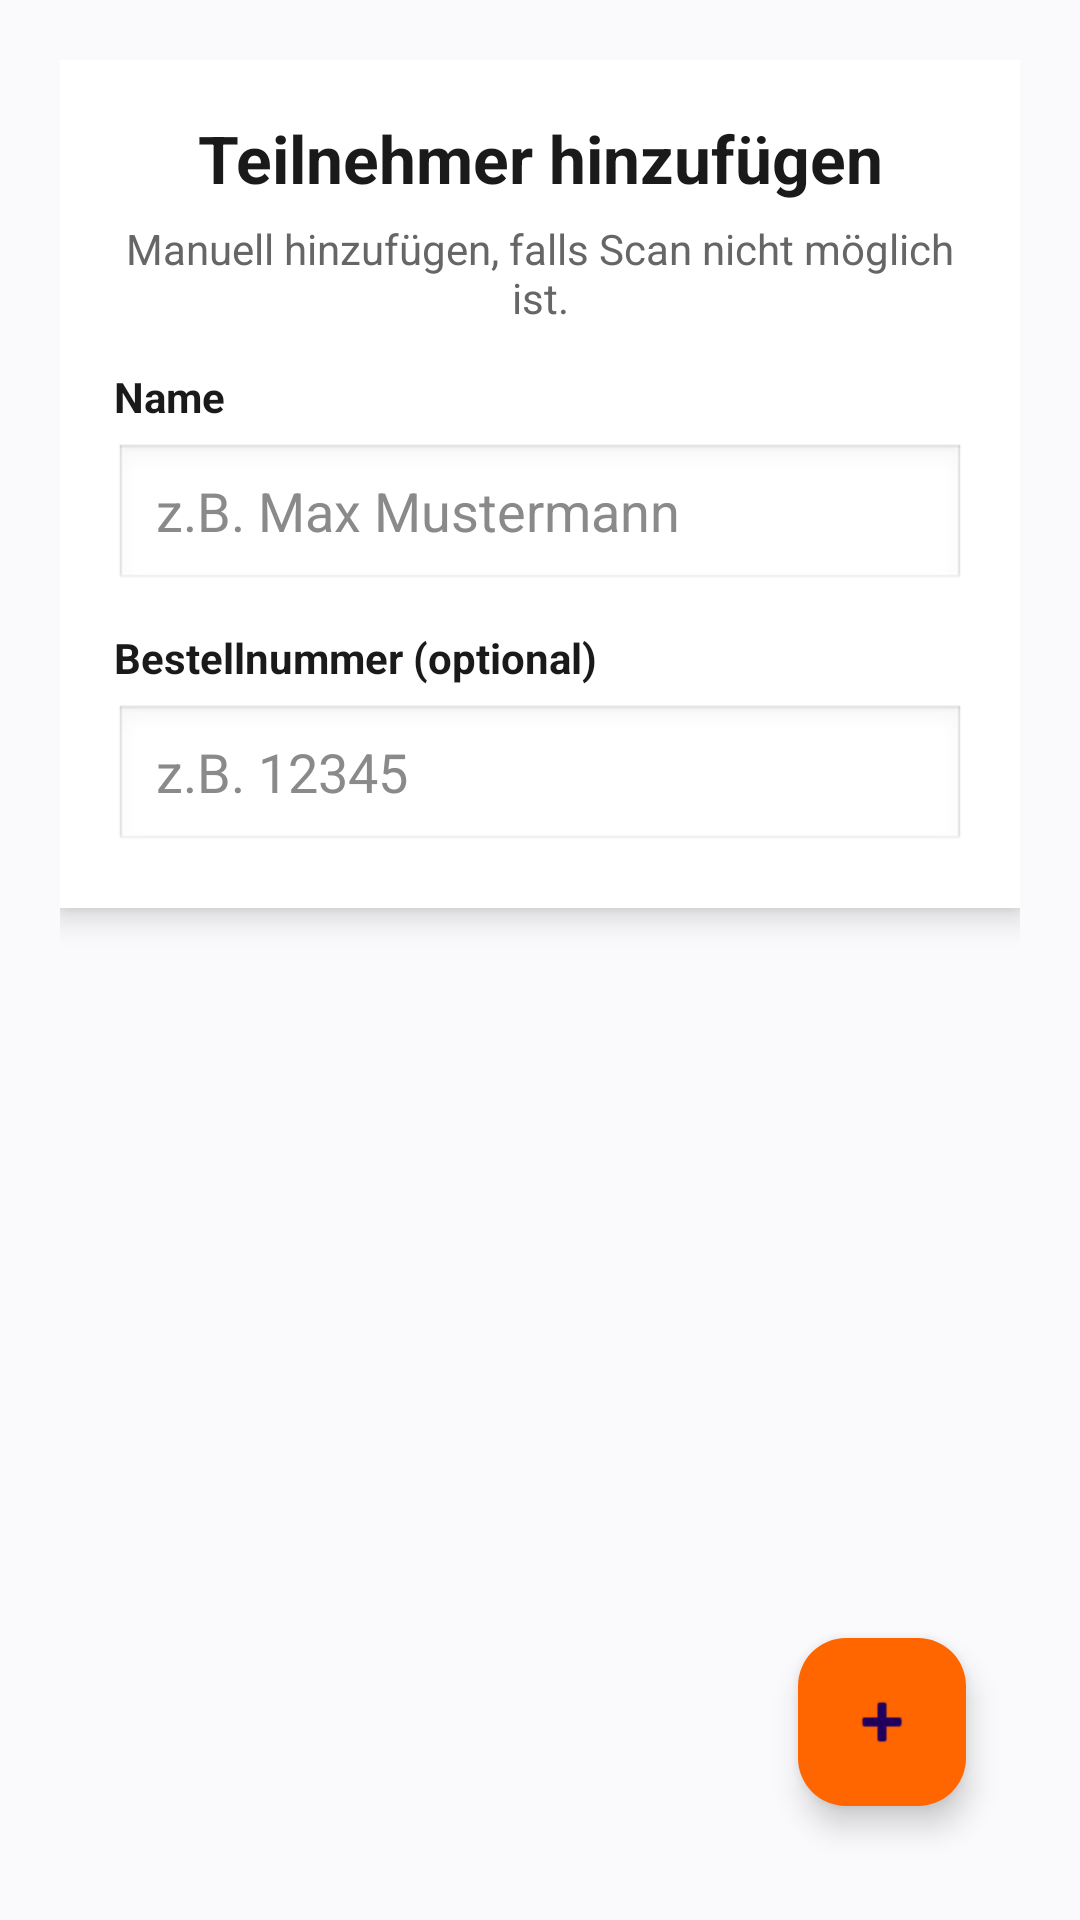

Icon click points for this 1080w x 1920h phone screenshot, format point (x, y):
Hinzufügen: point (882, 1722)
